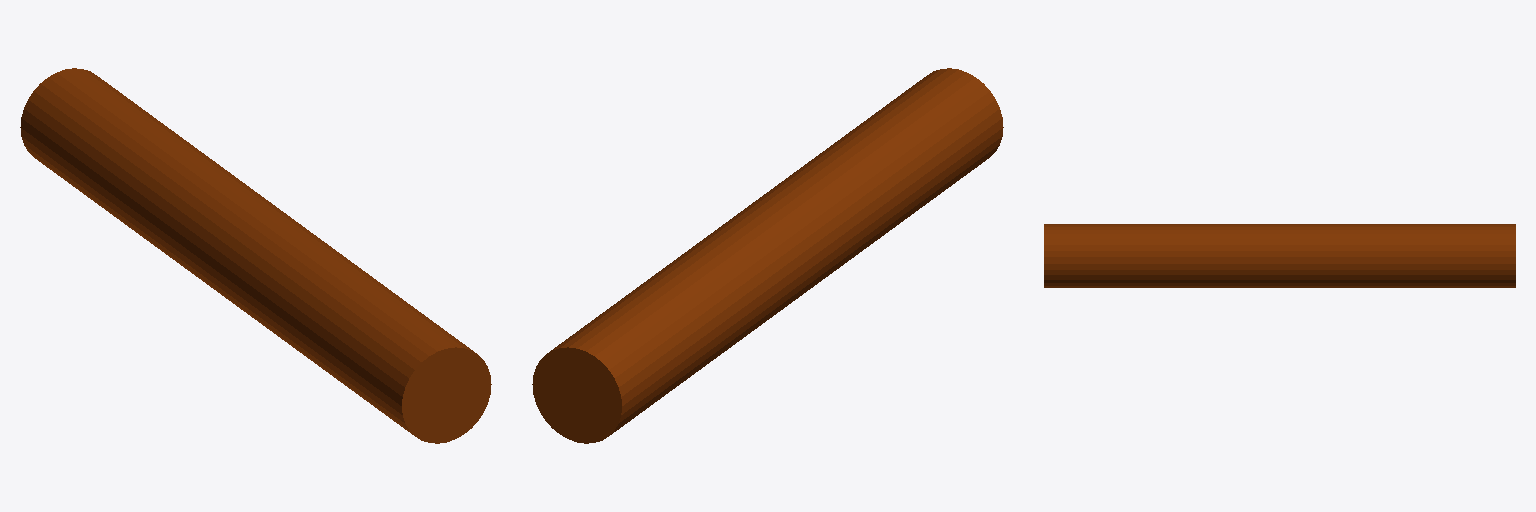
URDF robot description (cylinder):
<?xml version="1.0" ?>
<!-- =================================================================================== -->
<!-- |    This document was autogenerated by xacro from cylinder.xacro                 | -->
<!-- |    EDITING THIS FILE BY HAND IS NOT RECOMMENDED                                 | -->
<!-- =================================================================================== -->
<robot name="cylinder">
  <link name="world"/>
  <link name="base">
    <visual>
      <origin rpy="1.57079633 0 0" xyz="0 0 0"/>
      <geometry>
        <cylinder length="7.07106781185" radius="0.48"/>
      </geometry>
      <material name="cylinder_material">
        <color rgba="0.545 0.271 0.075 1.0"/>
        <texture filename="../textures/tree_bark.jpg"/>
      </material>
    </visual>
    <collision>
      <origin rpy="1.57079633 0 0" xyz="0 0 0"/>
      <geometry>
        <cylinder length="7.07106781185" radius="0.48"/>
      </geometry>
    </collision>
    <inertial>
      <origin rpy="0 0 0" xyz="0 0 0"/>
      <mass value="1"/>
      <inertia ixx="4.224266666648429" ixy="0.0" ixz="0.0" iyy="4.224266666648429" iyz="0.0" izz="24.999999999890573"/>
    </inertial>
  </link>
  <joint name="base_joint" type="fixed">
    <parent link="world"/>
    <child link="base"/>
    <origin rpy="0 0 0" xyz="0.0 0.0 0.0"/>
  </joint>
</robot>

--- What the picture shows (computed from the rendered views, not written in the file) ---
Views: 3 orthographic renders of the robot side by side, from view 1: azimuth 30°, elevation 25°; view 2: azimuth 150°, elevation 25°; view 3: azimuth 270°, elevation 25°.
Model cylinder with 2 links and 1 joints (1 fixed), rooted at world, posed all joints at 0.
Visible links, largest first — view 1: base; view 2: base; view 3: base.
Boxes of the visible links, x1,y1,x2,y2 form: base: [20, 68, 491, 443]; base: [532, 68, 1003, 443]; base: [1044, 224, 1515, 287].
Bounding box of the posed robot: 0.96 × 7.07 × 0.96 m (x, y, z).
Geometry: primitives only (box / cylinder / sphere), no mesh files.
